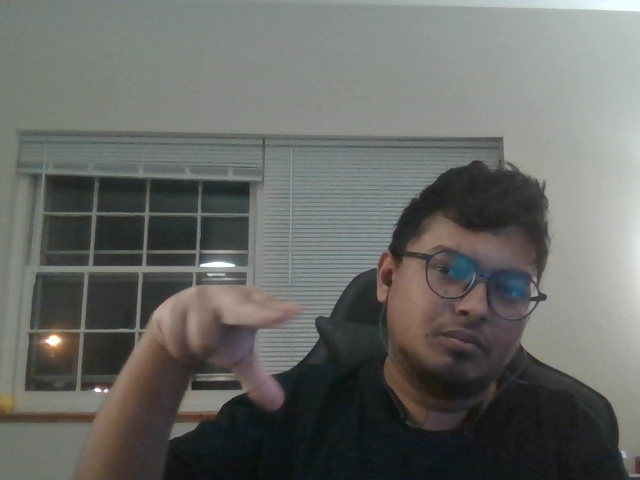no: (138, 266, 305, 430)
